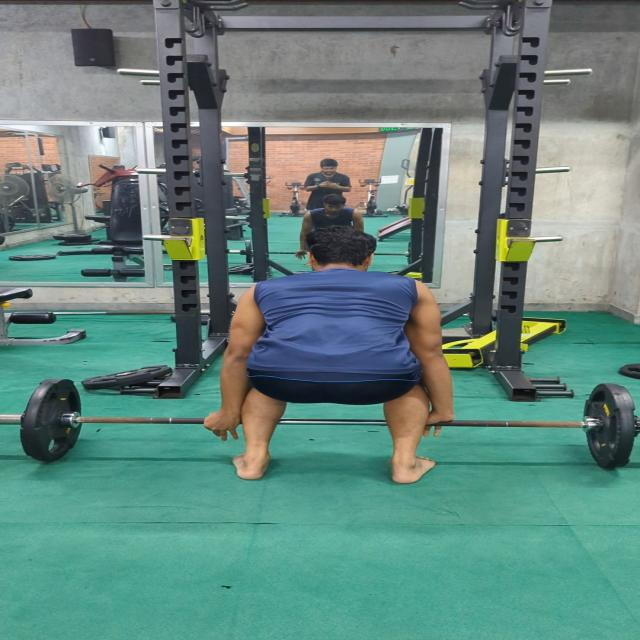Normal_Deadlifts: (203, 225, 458, 490)
